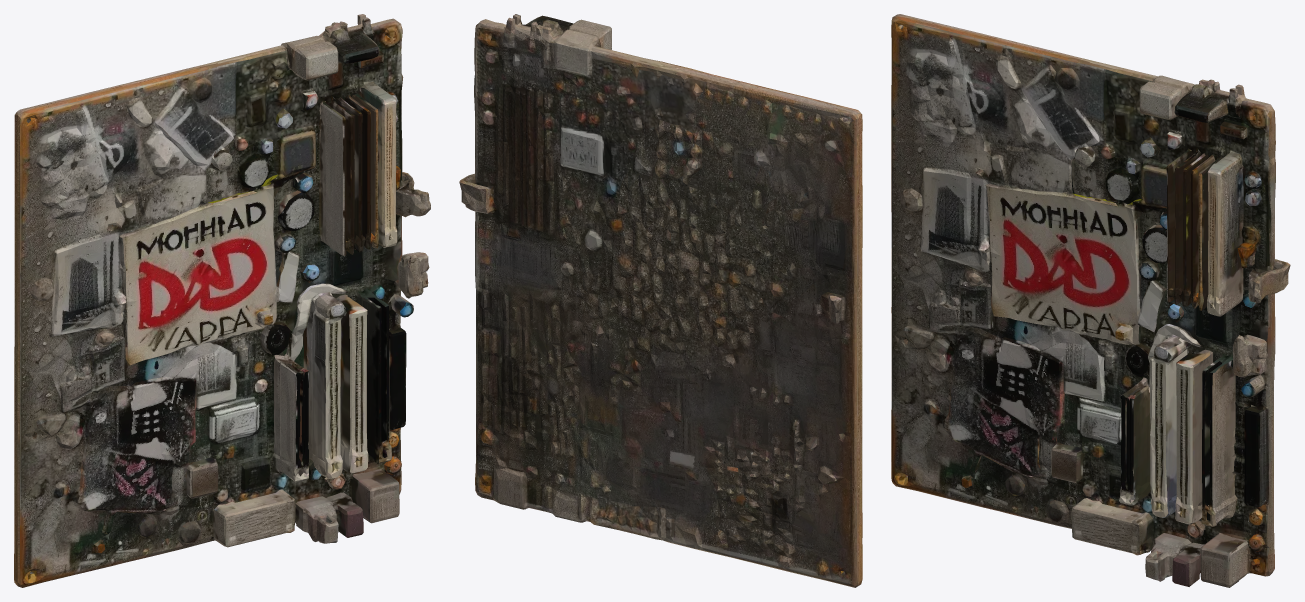
Rendered from chest (204).glb.
3 renders of one model, left to right at view 1: azimuth 30°, elevation 25°; view 2: azimuth 150°, elevation 25°; view 3: azimuth 330°, elevation 25°, orthographic.
Visible parts, largest first — view 1: Hy21_Mesh.obj; view 2: Hy21_Mesh.obj; view 3: Hy21_Mesh.obj.
Part boxes in pixels (bbox=[...]): Hy21_Mesh.obj: bbox=[14, 14, 430, 587]; Hy21_Mesh.obj: bbox=[459, 14, 862, 587]; Hy21_Mesh.obj: bbox=[891, 14, 1290, 587].
Size of the model in its own units: 1.64 by 1.96 by 0.2646.
Materials: 1 (1 with a texture image).
